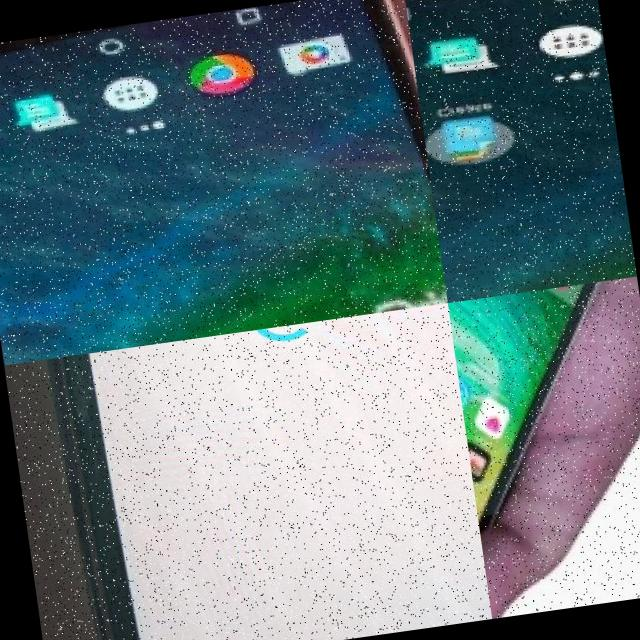dead pixel: (51, 346, 136, 388)
